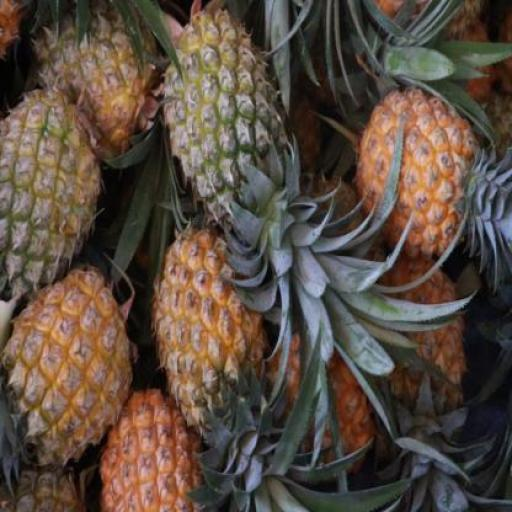------------------------------: (165, 6, 297, 229), (0, 95, 101, 287), (38, 0, 159, 158)
Pineapple - v8 v1: (7, 266, 131, 464), (152, 234, 269, 432), (355, 85, 475, 269), (98, 391, 210, 512)
